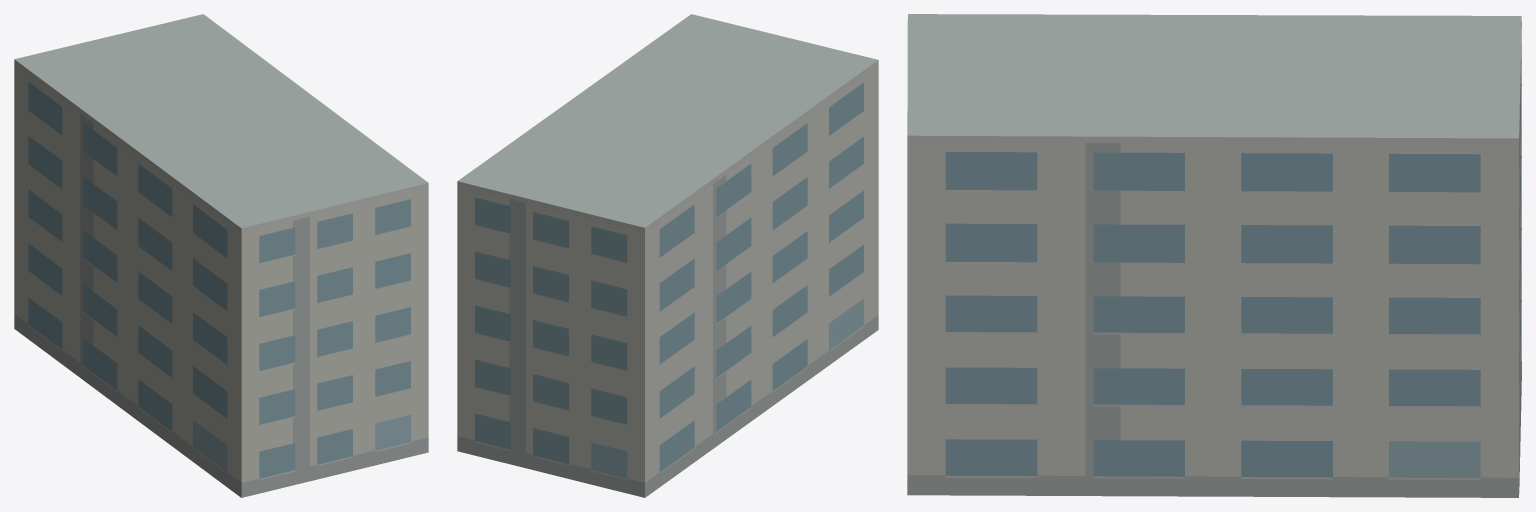
File: survey-upis-32999896.glb
The picture shows the model from 3 angles, left to right: view 1: azimuth 30°, elevation 25°; view 2: azimuth 150°, elevation 25°; view 3: azimuth 270°, elevation 25°; orthographic projection. The views are drawn at different scales.
Parts seen in each view (by area): view 1: survey-upis-32999896.tmp; view 2: survey-upis-32999896.tmp; view 3: survey-upis-32999896.tmp.
Part boxes in pixels (<box>): survey-upis-32999896.tmp: <box>14,14,428,497</box>; survey-upis-32999896.tmp: <box>457,14,878,497</box>; survey-upis-32999896.tmp: <box>907,14,1521,497</box>.
Bounding box in the file's own units: 10.1 × 13.6 × 21.08.
